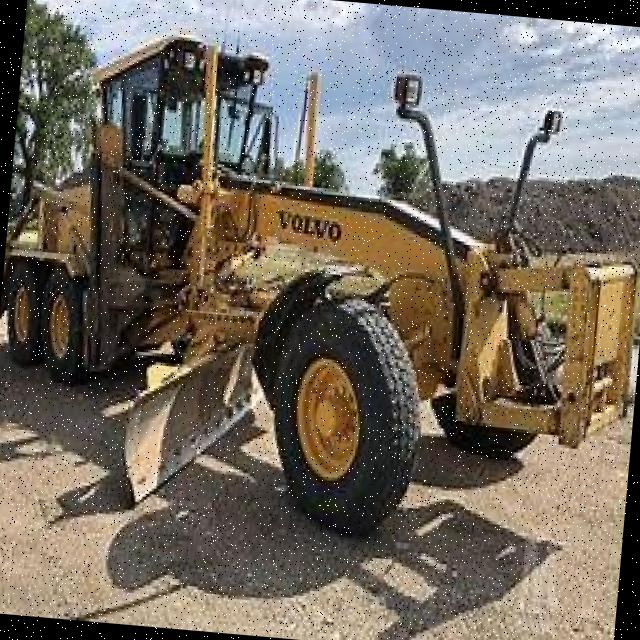Grader: (0, 0, 596, 566)
